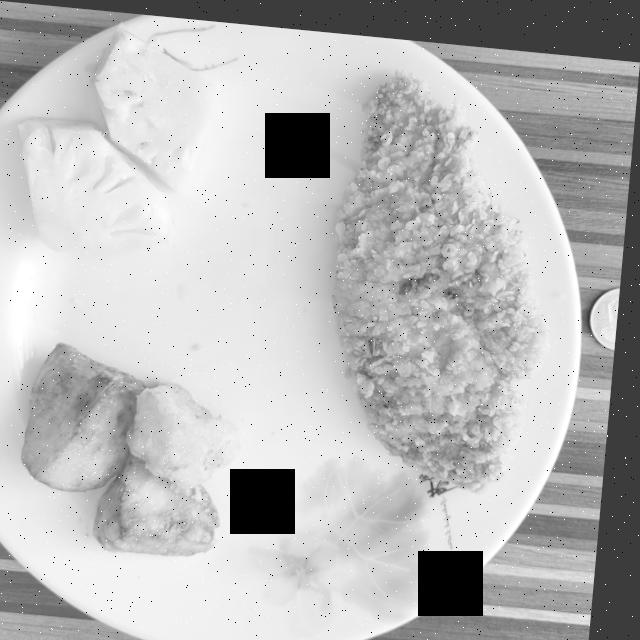coin: (595, 274, 624, 337)
fried chicken cutlet: (337, 62, 555, 482)
fried potato: (29, 340, 248, 551)
pineapple: (21, 20, 222, 249)
